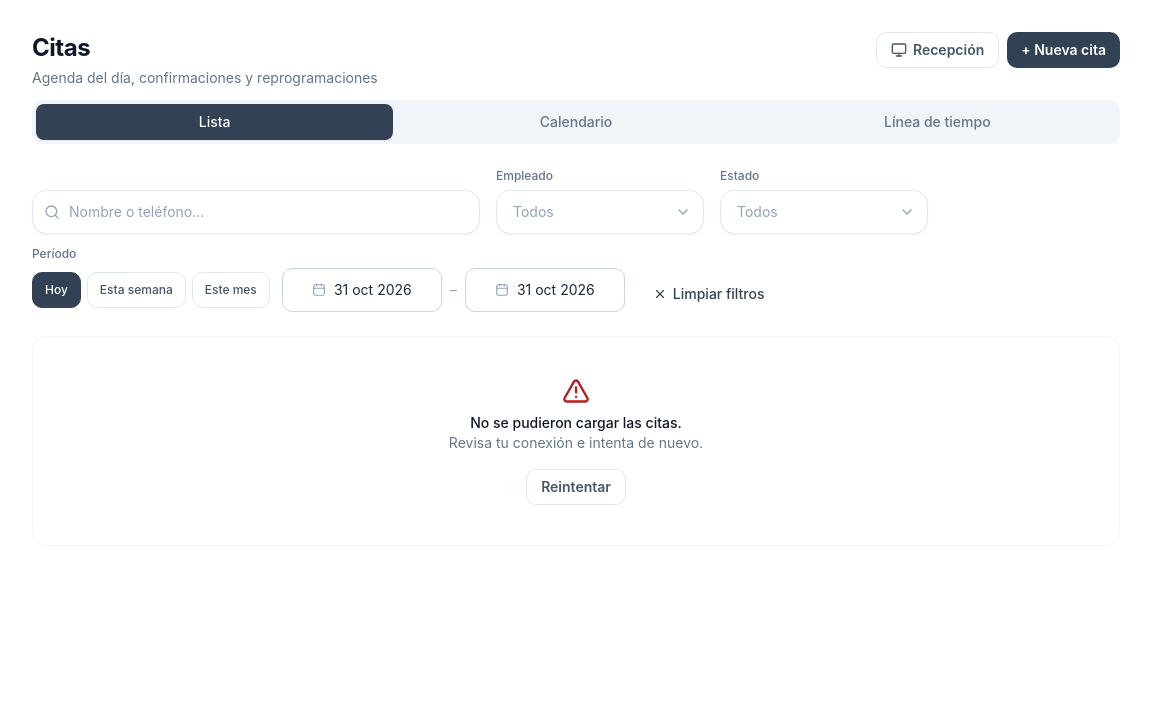
Test case: CitasPage — error al cargar (DC-32) › un fallo no se lee como 'no hay citas' y ofrece reintentar
Check: the text "No se pudieron cargar las citas." is shown, box [470,414,682,431]
What coordinates should you click on to do the following:
click the button "Reintentar"
I would click on:
 (576, 487)
Its box is [526,469,626,505].
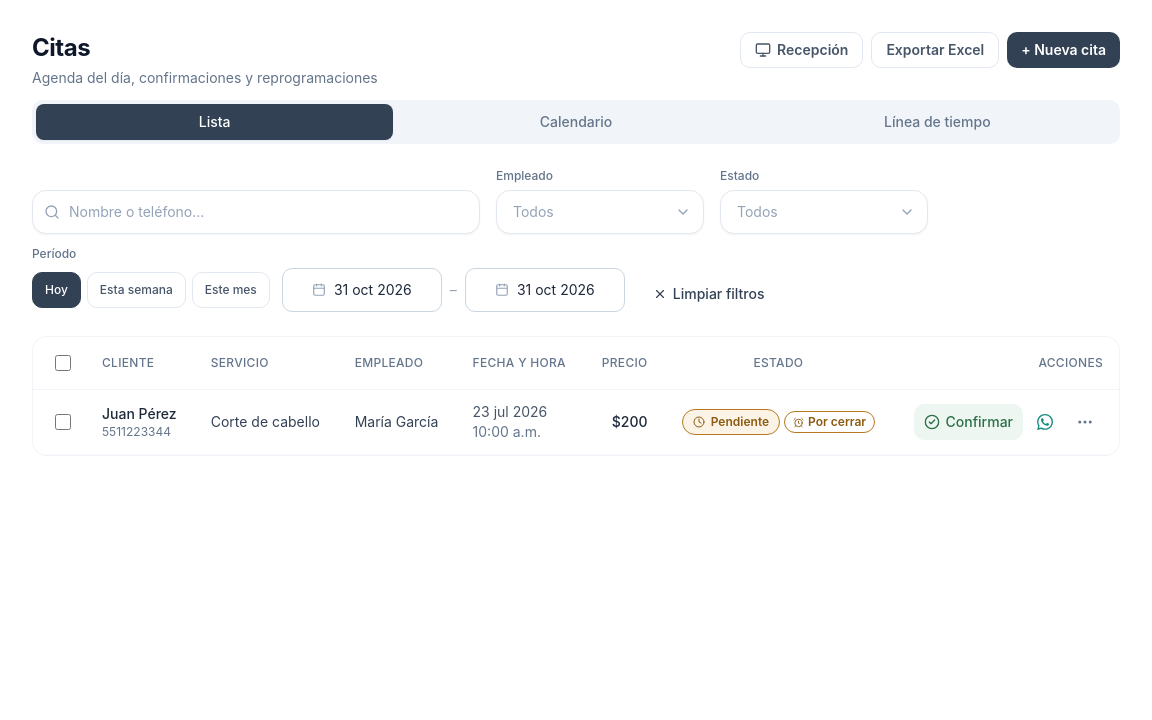
Check: the text "Juan Pérez" is shown, box [102,404,179,424]
